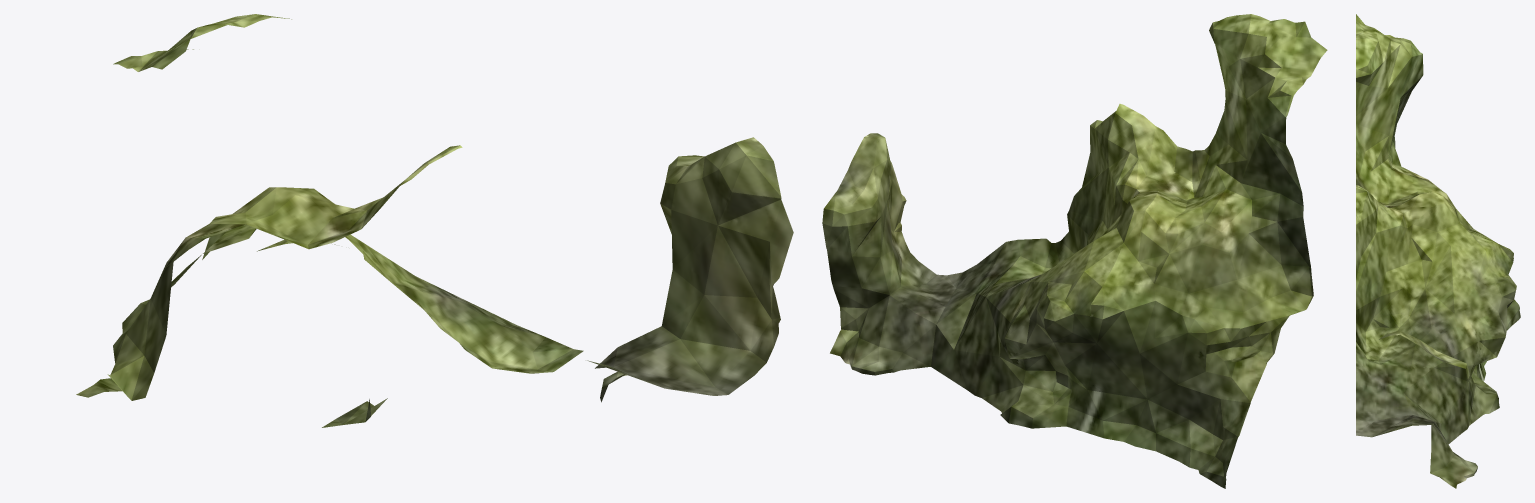
The picture shows the model from 3 angles, left to right: view 1: azimuth 30°, elevation 25°; view 2: azimuth 150°, elevation 25°; view 3: azimuth 270°, elevation 25°; orthographic projection. The views are drawn at different scales.
Bounding box in the file's own units: 2.95 × 2.5 × 1.2.
Materials: 2 (2 with a texture image).
